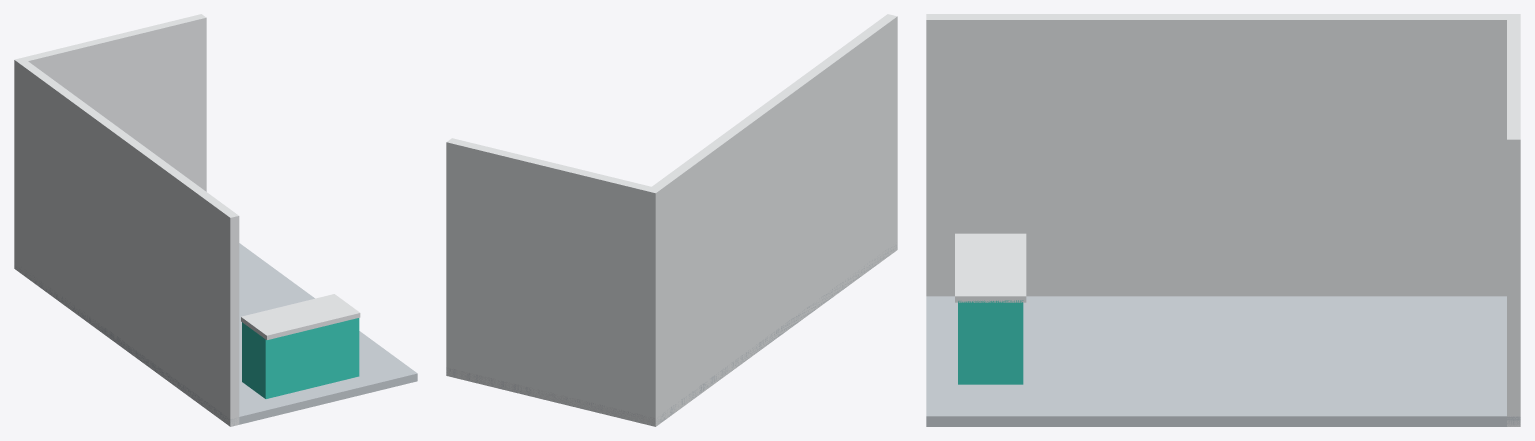
3 renders of one model, left to right at view 1: azimuth 30°, elevation 25°; view 2: azimuth 150°, elevation 25°; view 3: azimuth 270°, elevation 25°, orthographic. The views are drawn at different scales.
Visible parts, largest first — view 1: Exhibition Booth Concept; view 2: Exhibition Booth Concept; view 3: Exhibition Booth Concept.
Part boxes in pixels (x1,y1,x2,y2): Exhibition Booth Concept: (14,14,417,426); Exhibition Booth Concept: (446,14,897,426); Exhibition Booth Concept: (926,14,1520,426).
Bounding box in the file's own units: 3 × 3.2 × 6.
